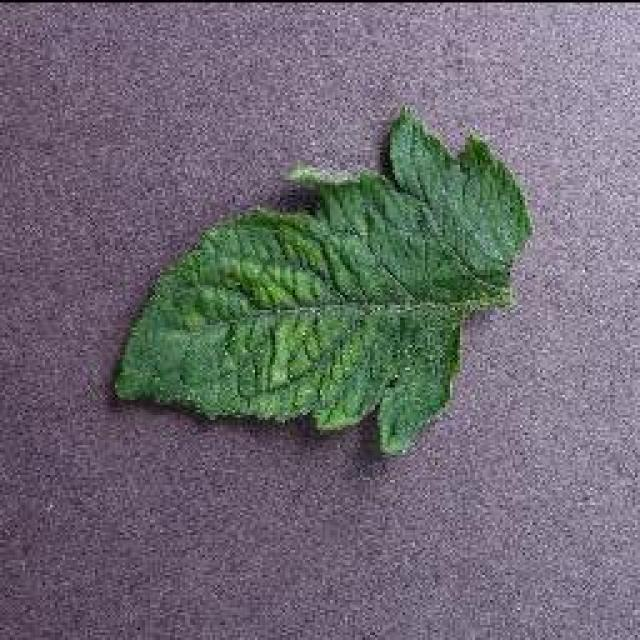Tomato___Tomato_mosaic_virus: (112, 110, 530, 450)
